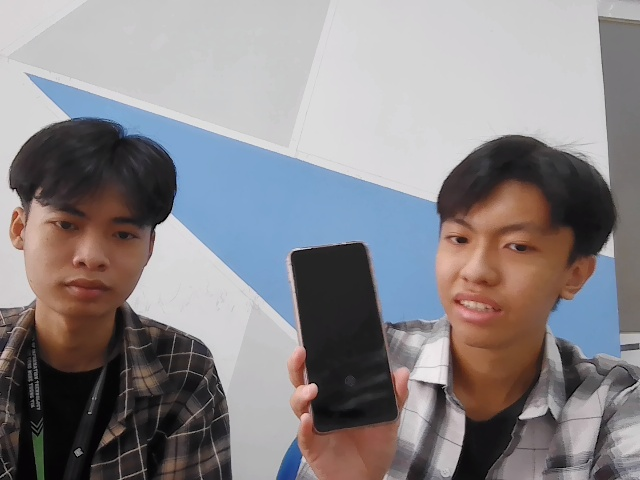human: (434, 128, 618, 356), (7, 112, 183, 330)
phone: (282, 225, 412, 438)
